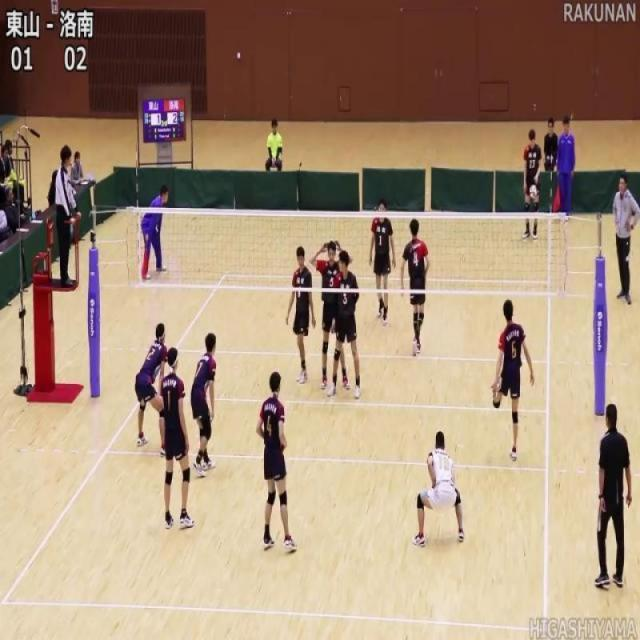volleyball: (528, 183, 538, 200)
